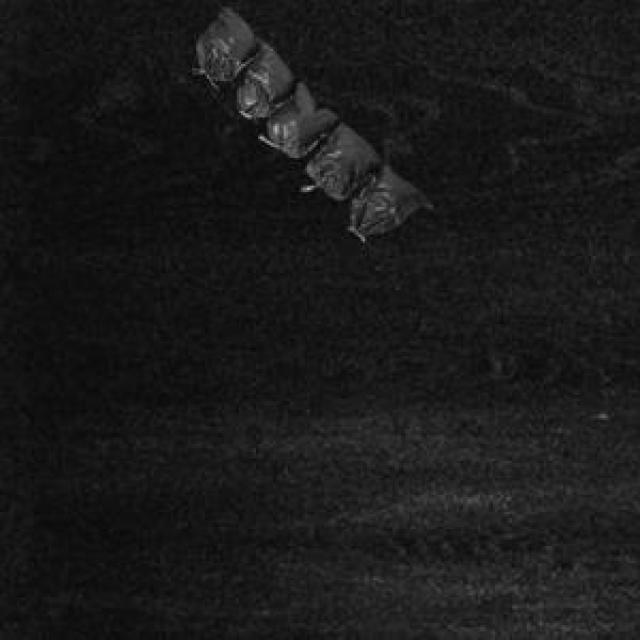miscellaneous trash: (192, 4, 427, 230)
